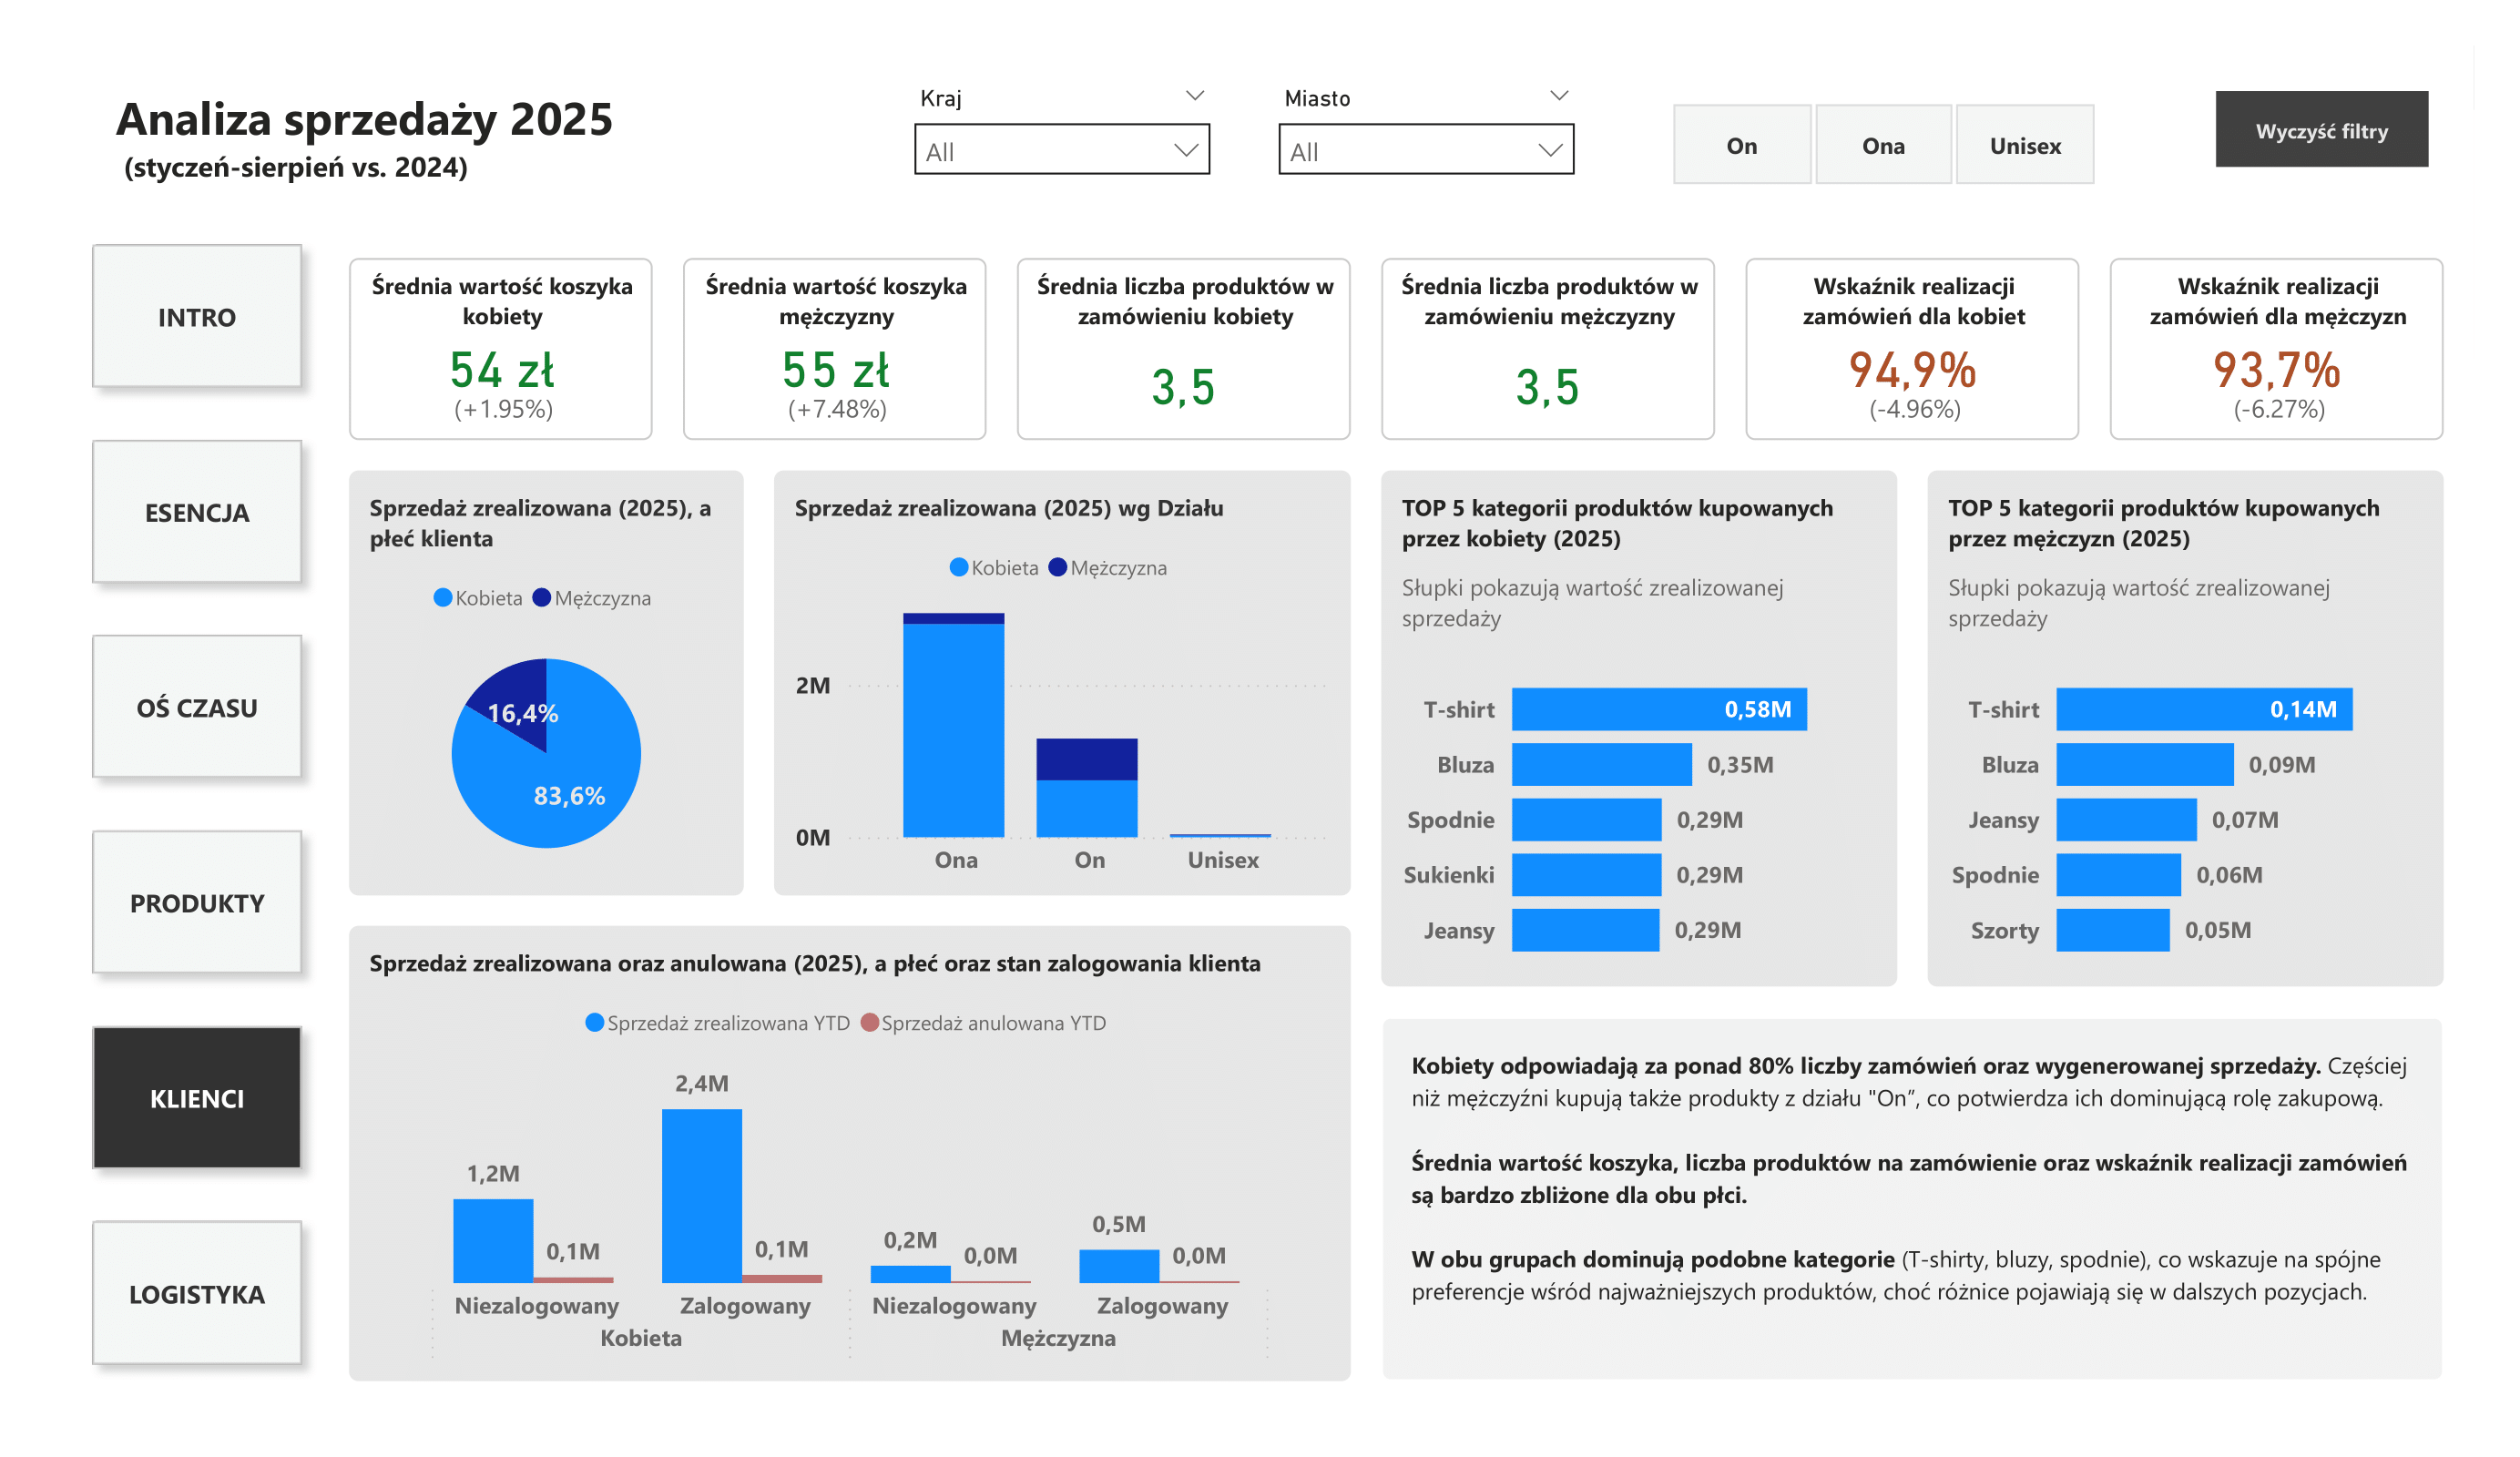

Layout of this report page (visuals, bound fields, positions):
{"tool":"powerbi","page":{"name":"KLIENCI","canvas":[1280,720],"ordinal":4},"visuals":[{"type":"kpi","title":"Wskaźnik realizacji zamówień dla mężczyzn","fields":{"Indicator":["Miary.Wskaznik realizacji zamowien YTD"],"Goal":["Miary.Wskaznik realizacji zamowień YTD LY czesciowy"],"TrendLine":["dKalendarz.Date Hierarchy.Rok"]},"box":[1088,112,176,96],"z":0},{"type":"kpi","title":"Wskaźnik realizacji zamówień dla kobiet","fields":{"Indicator":["Miary.Wskaznik realizacji zamowien YTD"],"Goal":["Miary.Wskaznik realizacji zamowień YTD LY czesciowy"],"TrendLine":["dKalendarz.Date Hierarchy.Rok"]},"box":[896,112,176,96],"z":1000},{"type":"clusteredBarChart","title":"TOP 5 kategorii produktów kupowanych przez kobiety (2025)","fields":{"Category":["dProdukt.Kategoria"],"Y":["Miary.Sprzedaz zrealizowana"],"Series":["dPlec.Plec"]},"box":[704,224,272,272],"z":2000},{"type":"slicer","fields":{"Values":["dProdukt.Dział"]},"box":[832,24,272,56],"z":3000,"group":"g1"},{"type":"clusteredBarChart","title":"TOP 5 kategorii produktów kupowanych przez mężczyzn (2025)","fields":{"Category":["dProdukt.Kategoria"],"Y":["Miary.Sprzedaz zrealizowana"]},"box":[992,224,272,272],"z":3000},{"type":"pageNavigator","box":[16,96,128,608],"z":4000},{"type":"group","id":"g1","title":"Group 2","box":[448,16,816,64],"z":5000},{"type":"textbox","box":[32,16,320,64],"z":6000},{"type":"slicer","fields":{"Values":["dMiasto.Kraj"]},"box":[448,16,176,56],"z":6000,"group":"g1"},{"type":"clusteredColumnChart","title":"Sprzedaż zrealizowana oraz anulowana (2025), a płeć oraz stan zalogowania klienta","fields":{"Category":["dPlec.Plec","fZamowienia.Czy zalogowany"],"Y":["Miary.Sprzedaz zrealizowana YTD","Miary.Sprzedaz anulowana YTD"]},"box":[160,464,528,240],"z":7000},{"type":"slicer","fields":{"Values":["dMiasto.Miasto"]},"box":[640,16,176,56],"z":8000,"group":"g1"},{"type":"kpi","title":"Średnia wartość koszyka kobiety","fields":{"TrendLine":["dKalendarz.Date Hierarchy.Rok"],"Indicator":["Miary.Srednia wartosc zamowienia zrealizowanego YTD"],"Goal":["Miary.Srednia wartosc zamowienia zrealizowanego YTD LY czesciowy"]},"box":[160,112,160,96],"z":8000},{"type":"kpi","title":"Średnia wartość koszyka mężczyzny","fields":{"TrendLine":["dKalendarz.Date Hierarchy.Rok"],"Indicator":["Miary.Srednia wartosc zamowienia zrealizowanego YTD"],"Goal":["Miary.Srednia wartosc zamowienia zrealizowanego YTD LY czesciowy"]},"box":[336,112,160,96],"z":9000},{"type":"actionButton","box":[1144,24,112,40],"z":10000,"group":"g1"},{"type":"card","title":"Średnia liczba produktów w zamówieniu kobiety","fields":{"Values":["Miary.Średnia liczba przedmiotow w zamowieniu"]},"box":[512,112,176,96],"z":10000},{"type":"card","title":"Średnia liczba produktów w zamówieniu mężczyzny","fields":{"Values":["Miary.Średnia liczba przedmiotow w zamowieniu"]},"box":[704,112,176,96],"z":11000},{"type":"textbox","box":[704,512,560,192],"z":12000},{"type":"pieChart","title":"Sprzedaż zrealizowana (2025), a płeć klienta","fields":{"Category":["dPlec.Plec"],"Y":["Miary.Sprzedaz zrealizowana YTD"]},"box":[160,224,208,224],"z":13000},{"type":"columnChart","title":"Sprzedaż zrealizowana (2025) wg Działu","fields":{"Category":["dProdukt.Dział"],"Y":["Miary.Sprzedaz zrealizowana YTD"],"Series":["dPlec.Plec"]},"box":[384,224,304,224],"z":14000}]}

Visuals, with their boxes on the page's 1280x720 design canvas (x1, y1, x2, y2). These are canvas units, not pixel positions in the 2520x1457 screenshot, which may show the page scaled, cropped or inside an application window:
"Wskaźnik realizacji zamówień dla mężczyzn" kpi: 1088 112 1264 208
"Wskaźnik realizacji zamówień dla kobiet" kpi: 896 112 1072 208
"TOP 5 kategorii produktów kupowanych przez kobiety (2025)" clusteredBarChart: 704 224 976 496
slicer - dProdukt.Dział: 832 24 1104 80
"TOP 5 kategorii produktów kupowanych przez mężczyzn (2025)" clusteredBarChart: 992 224 1264 496
pageNavigator: 16 96 144 704
"Group 2" group: 448 16 1264 80
textbox: 32 16 352 80
slicer - dMiasto.Kraj: 448 16 624 72
"Sprzedaż zrealizowana oraz anulowana (2025), a płeć oraz stan zalogowania klienta" clusteredColumnChart: 160 464 688 704
slicer - dMiasto.Miasto: 640 16 816 72
"Średnia wartość koszyka kobiety" kpi: 160 112 320 208
"Średnia wartość koszyka mężczyzny" kpi: 336 112 496 208
actionButton: 1144 24 1256 64
"Średnia liczba produktów w zamówieniu kobiety" card: 512 112 688 208
"Średnia liczba produktów w zamówieniu mężczyzny" card: 704 112 880 208
textbox: 704 512 1264 704
"Sprzedaż zrealizowana (2025), a płeć klienta" pieChart: 160 224 368 448
"Sprzedaż zrealizowana (2025) wg Działu" columnChart: 384 224 688 448
